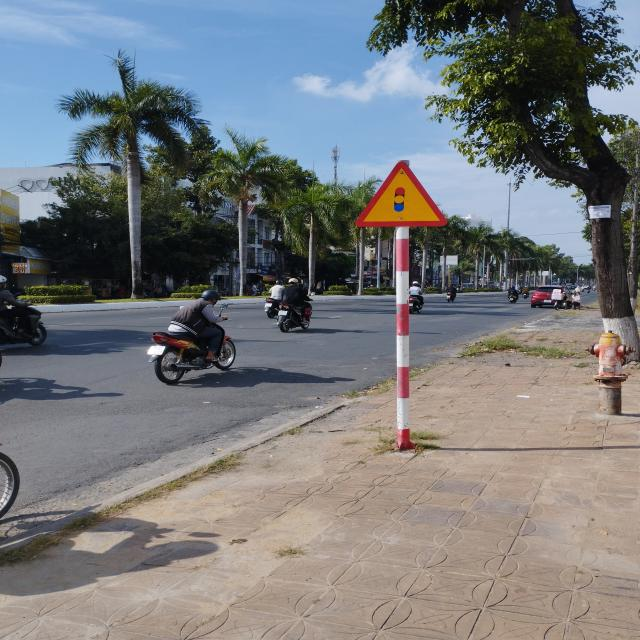Duong_Co_Go_Giam_Toc: (354, 161, 447, 227)
